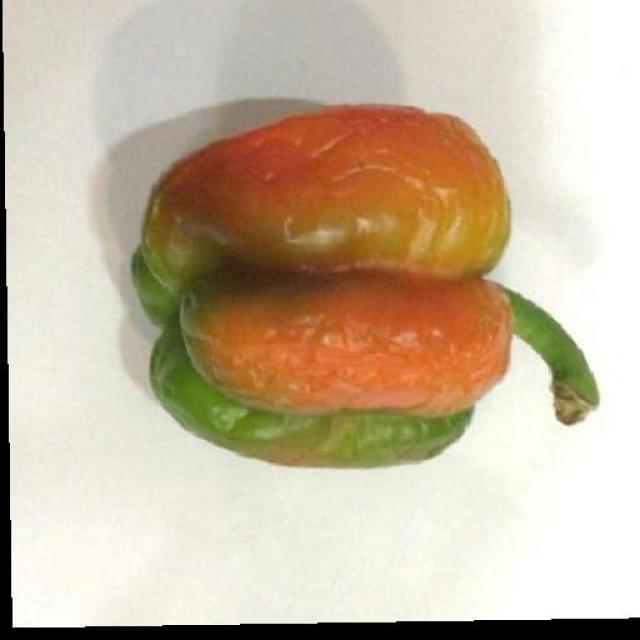Stale_Capsicum: (130, 77, 522, 490)
